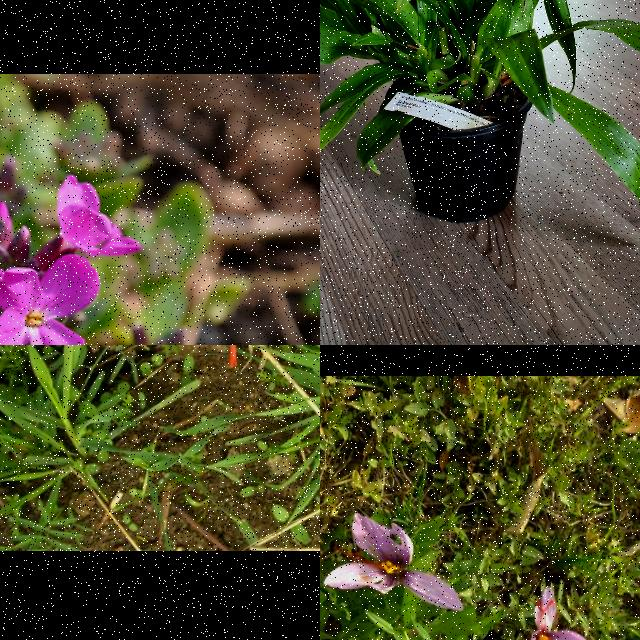flower: (324, 512, 464, 612), (529, 587, 593, 640)
